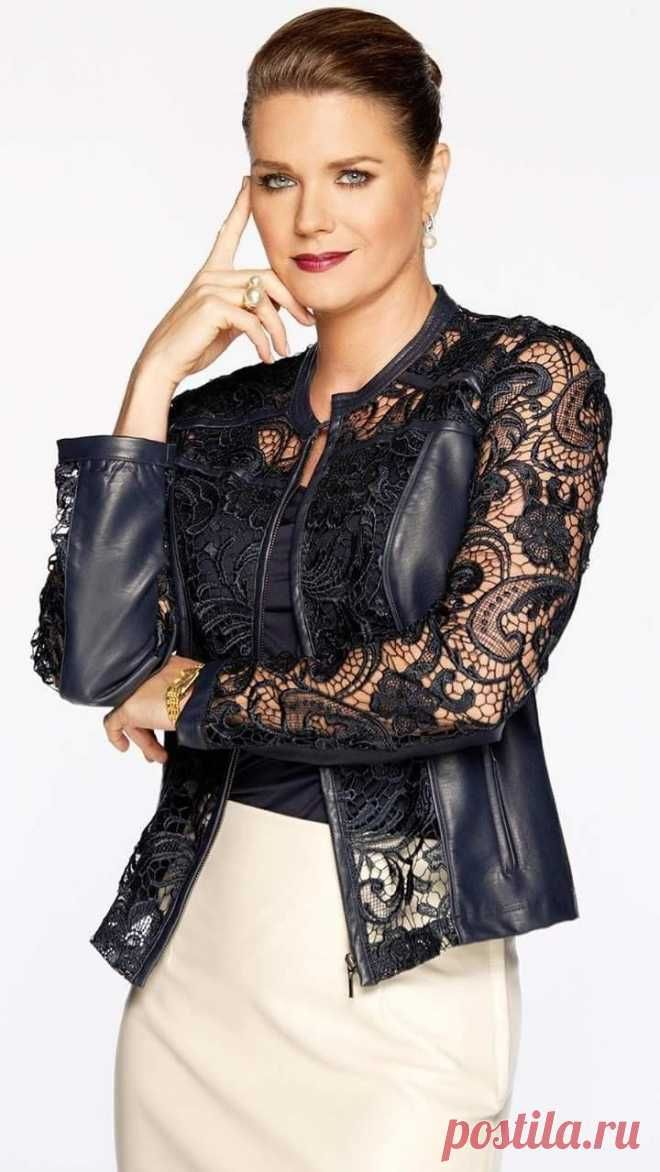cuero: (42, 289, 584, 991)
